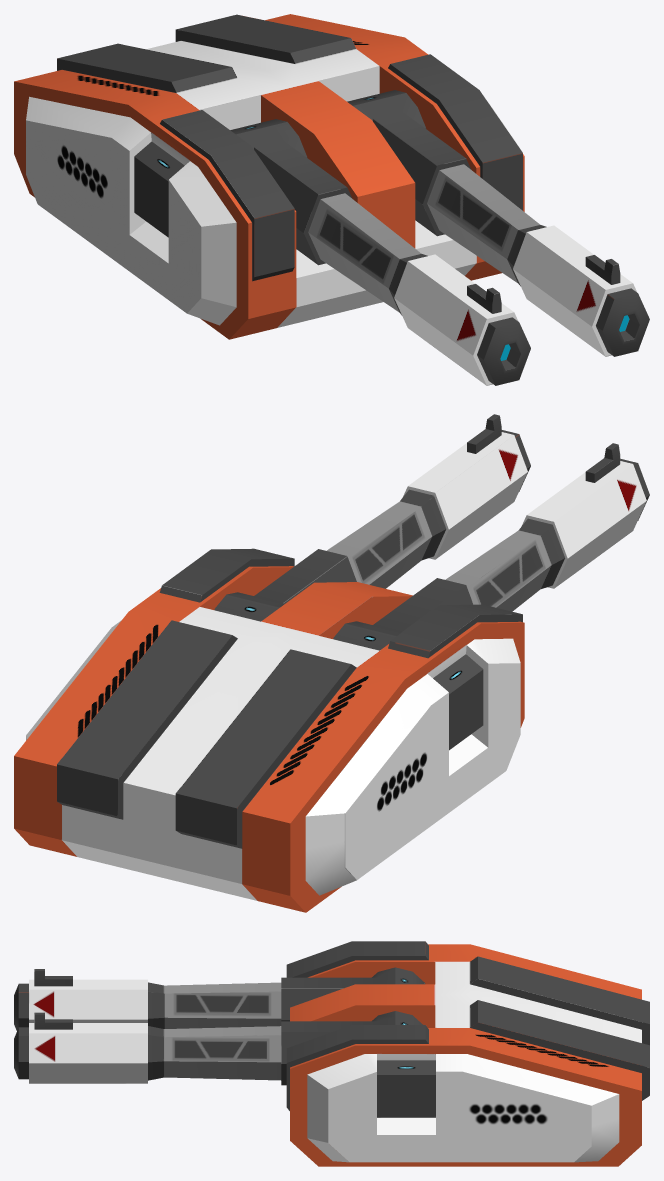
File: SKTCHFAB.obj
3 views of the same model, one above another, from view 1: azimuth 30°, elevation 25°; view 2: azimuth 150°, elevation 25°; view 3: azimuth 270°, elevation 25° (orthographic). The views are drawn at different scales.
Parts seen in each view (by area): view 1: M_Base_Cube, M_Barrels_Cube.003; view 2: M_Base_Cube, M_Barrels_Cube.003; view 3: M_Base_Cube, M_Barrels_Cube.003.
Part boxes in pixels (x1,y1,x2,y2): M_Base_Cube: (14, 14, 524, 339); M_Barrels_Cube.003: (230, 90, 649, 385); M_Base_Cube: (14, 548, 524, 912); M_Barrels_Cube.003: (214, 414, 649, 650); M_Base_Cube: (286, 941, 649, 1166); M_Barrels_Cube.003: (14, 967, 425, 1085).
Size of the model in its own units: 2.61 by 1.31 by 5.98.
